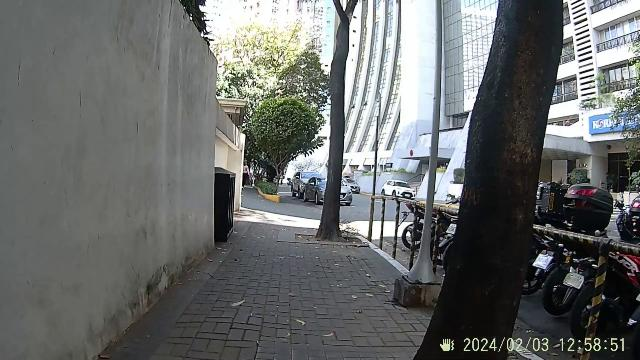tree: (434, 0, 570, 358), (313, 1, 352, 239)
utility_post: (410, 0, 444, 292)
